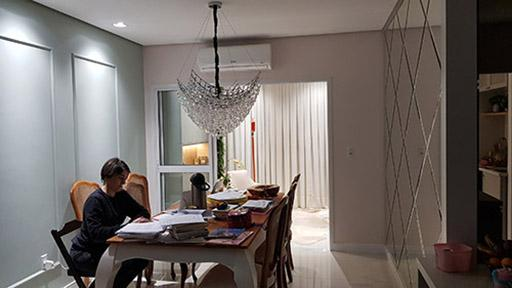Vara_Manobra: (251, 132, 256, 183)
